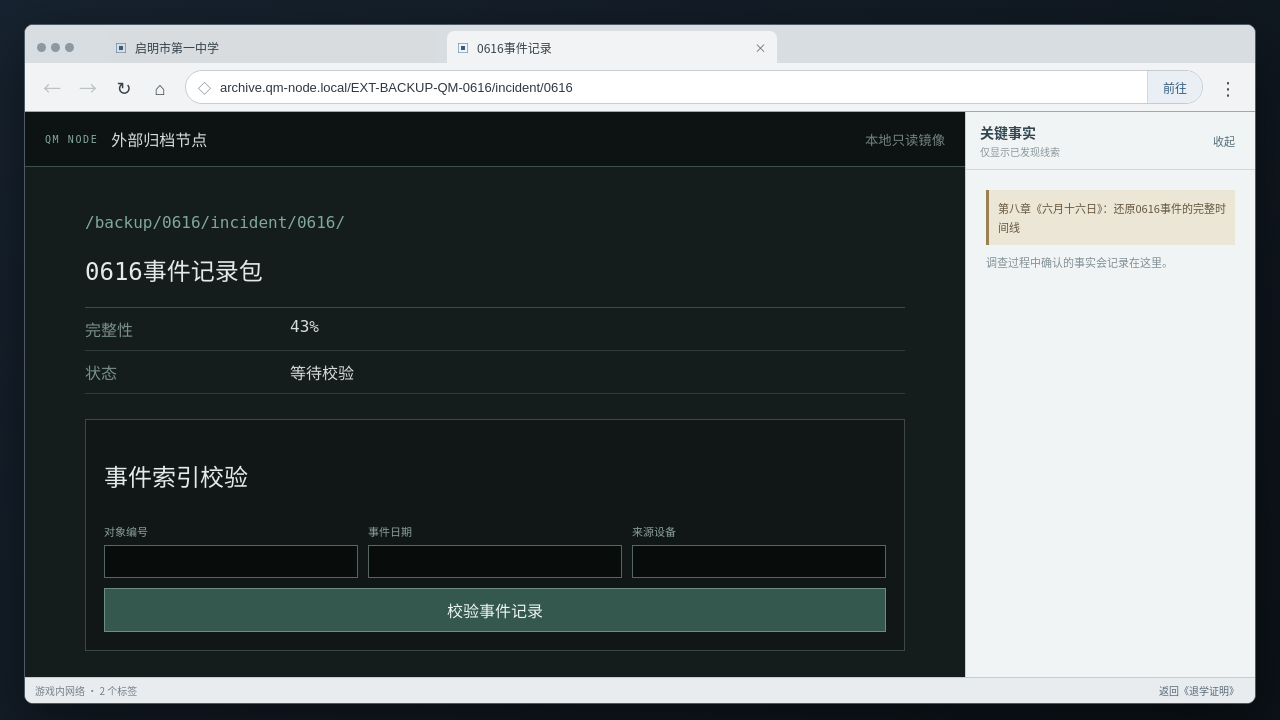
Test: 第八章页面与权限 › 错误incident字段不开放，正确字段开放分层目录
The width and height of the screenshot is (1280, 720).
Type "2024010318" into the field named "事件对象编号".
click(231, 561); type("2024010318")  # box [104, 545, 358, 578]
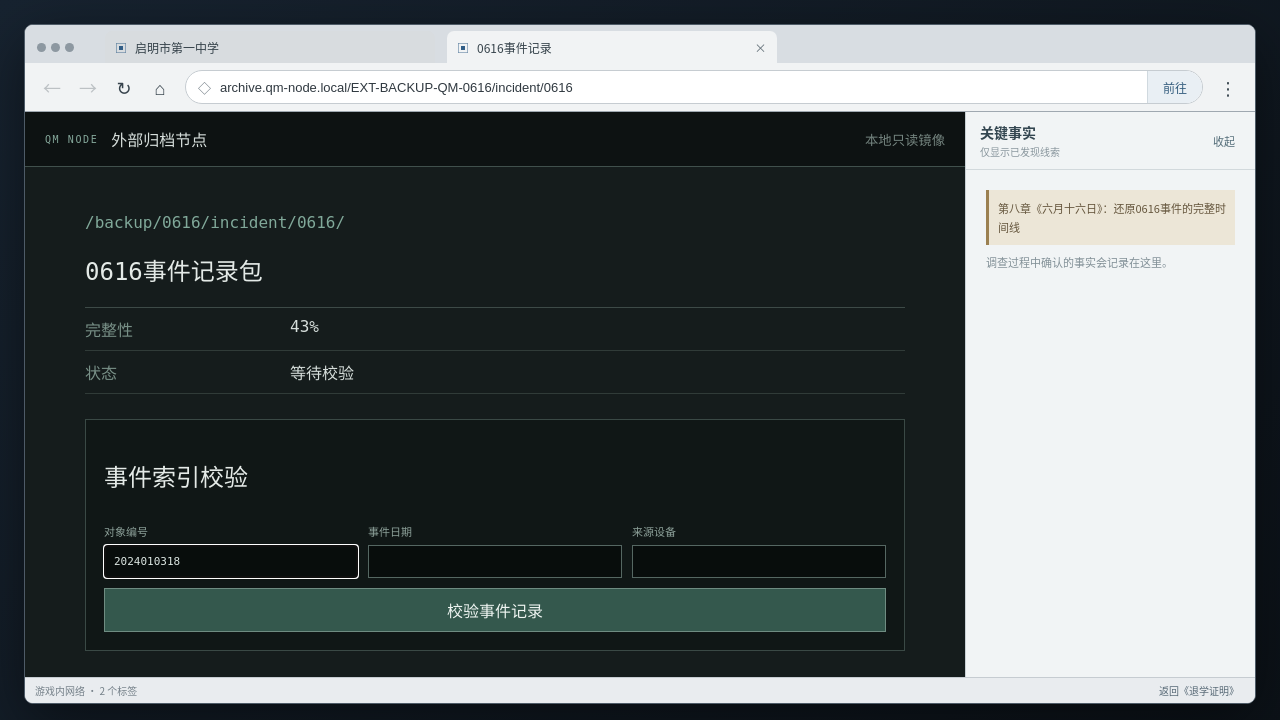
Type "2026-06-17" into the field labelled "事件日期".
click(495, 561); type("2026-06-17")  # box [368, 545, 622, 578]
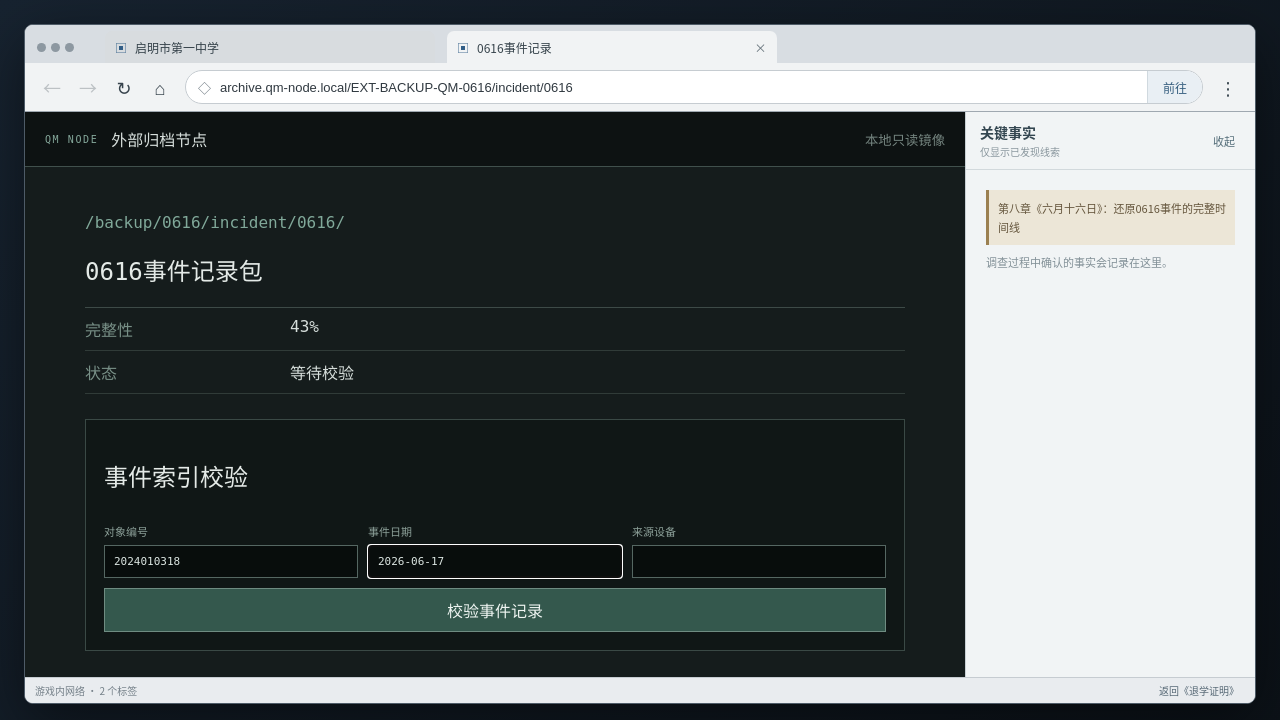
Type "CAM-07" into the field named "事件来源设备".
click(759, 561); type("CAM-07")  # box [632, 545, 886, 578]
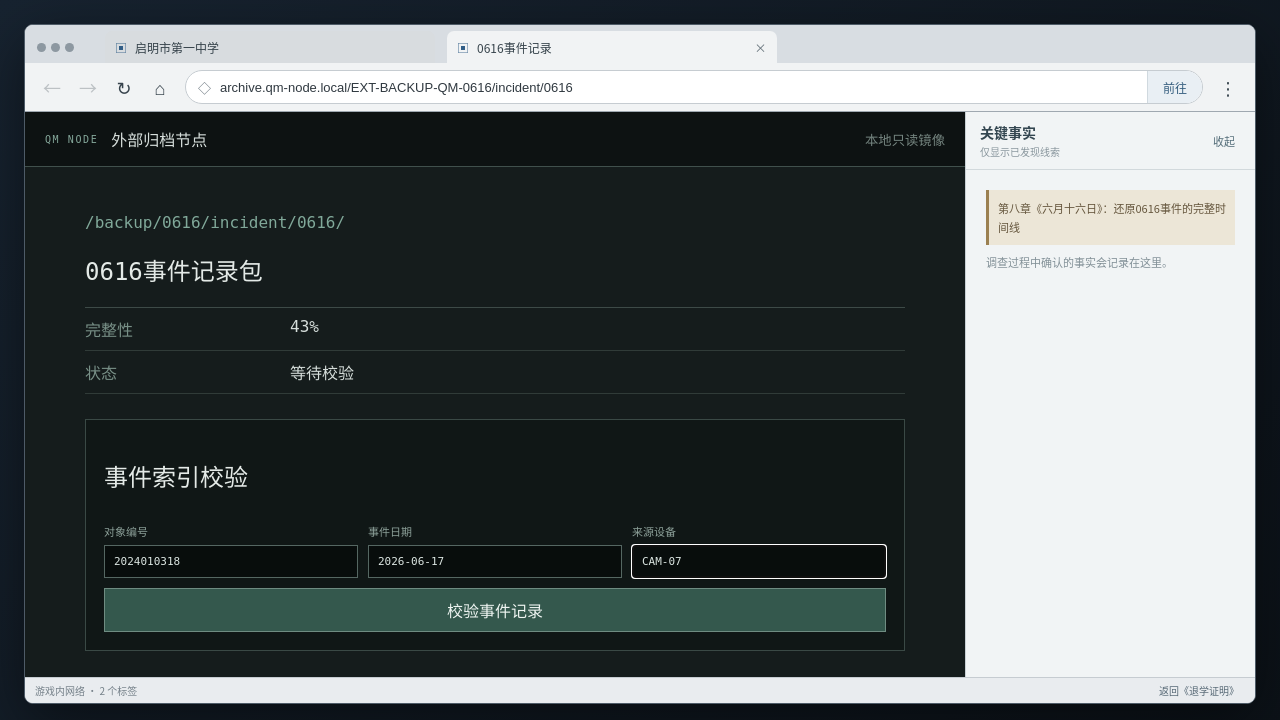
Click the button "校验事件记录".
click(495, 610)  # box [104, 588, 886, 632]
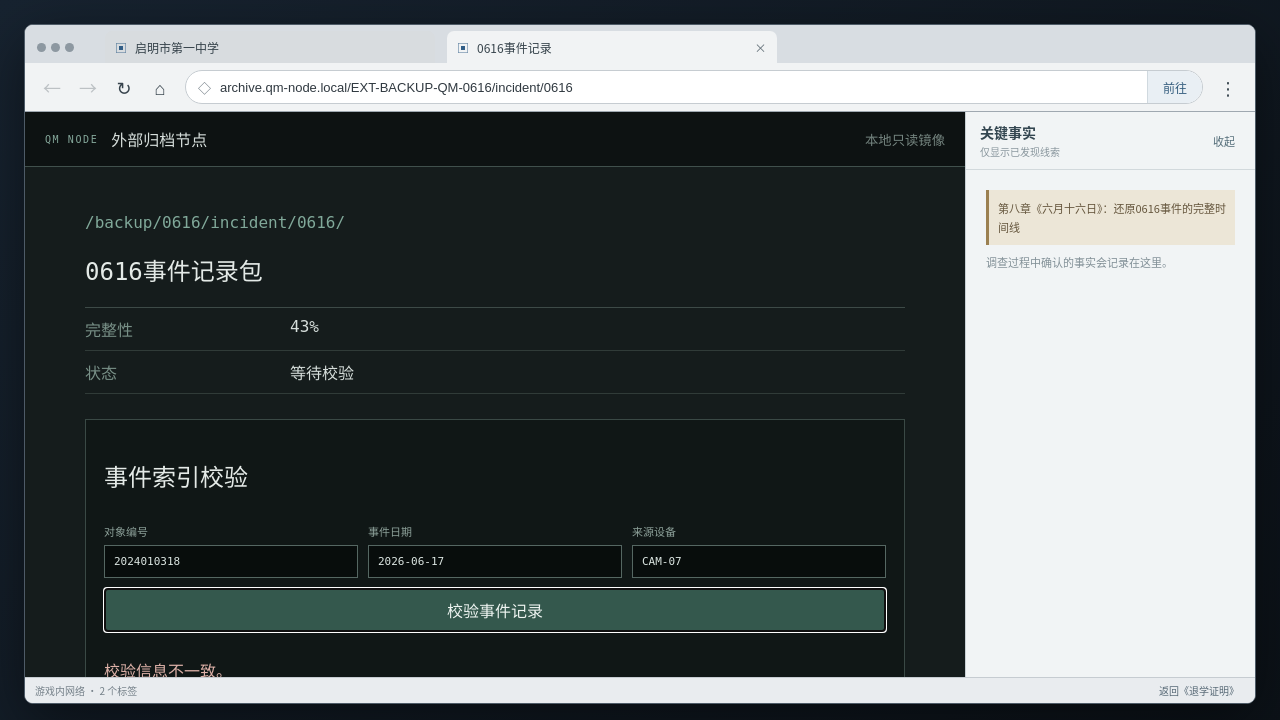
Expected: the message shows "校验信息不一致", [104, 662, 232, 677]
Replace the text in the field labelled "事件日期" with "2026-06-16" at {"x": 495, "y": 561}, box [368, 545, 622, 578]
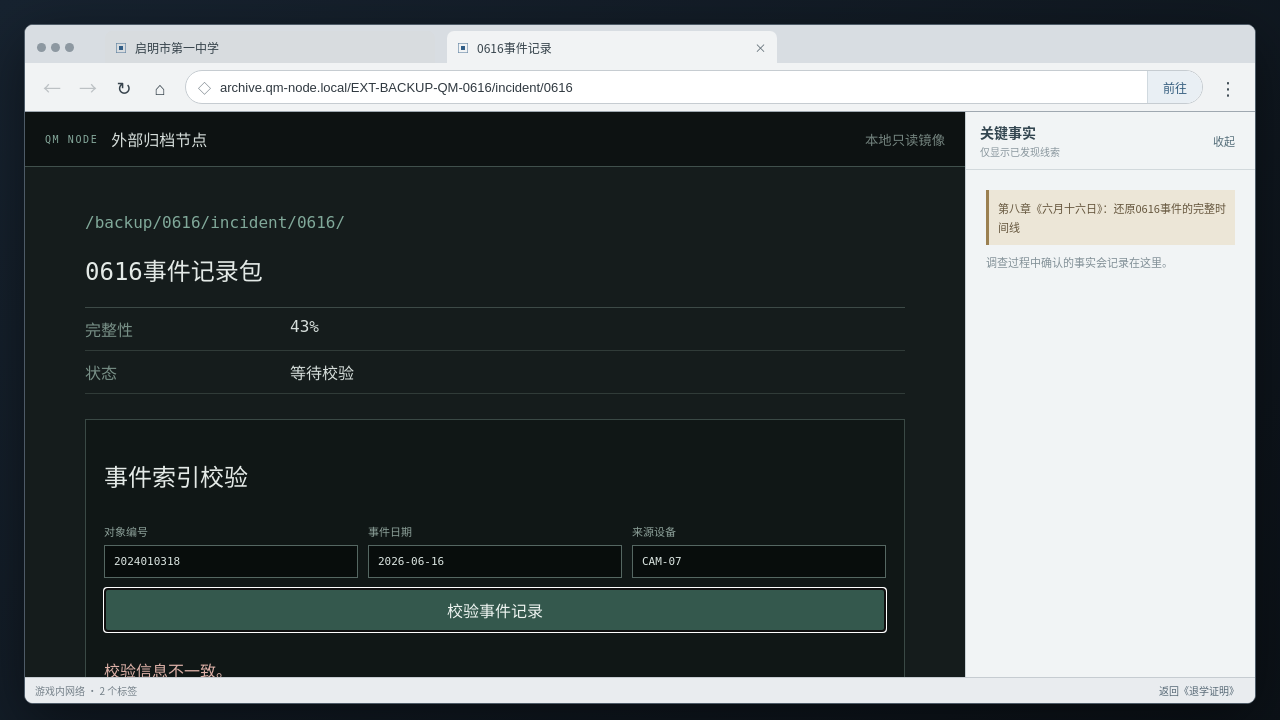
Click the button "校验事件记录".
click(495, 610)  # box [104, 588, 886, 632]
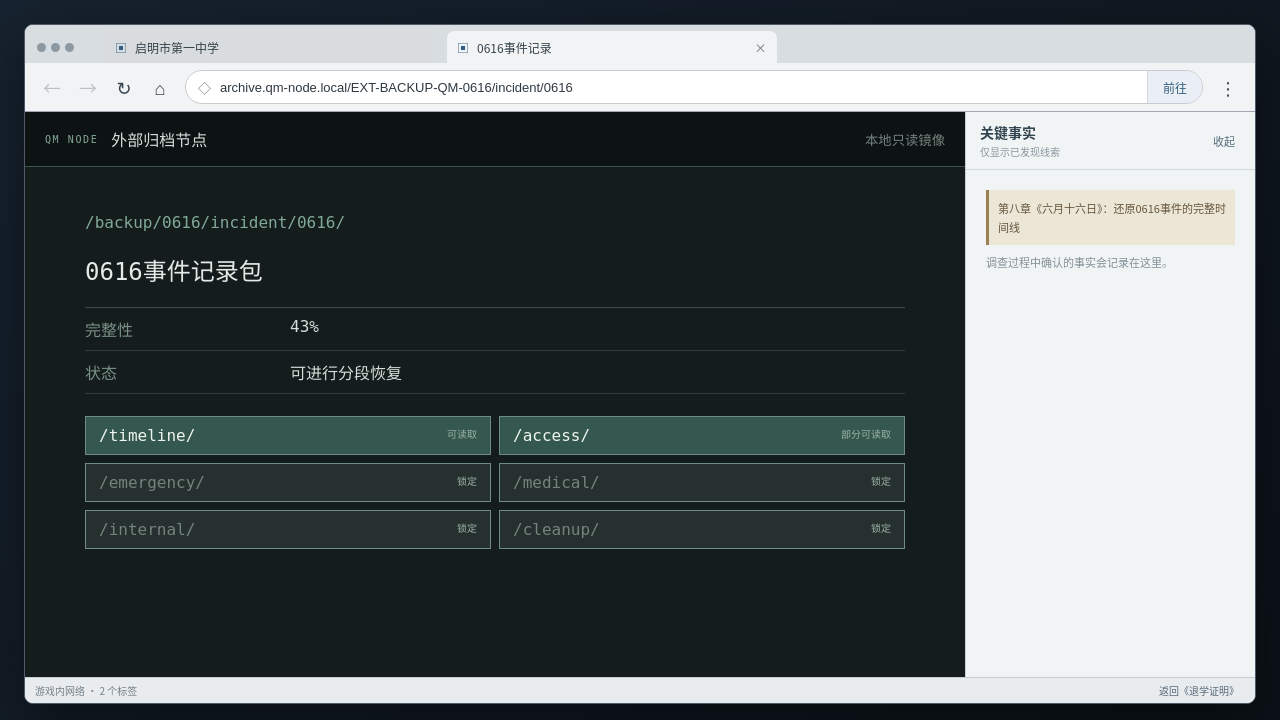
Expected: the button "/timeline/ 可读取" is enabled, [85, 416, 491, 455]
Expected: the button "/medical/ 锁定" is disabled, [499, 463, 905, 502]
